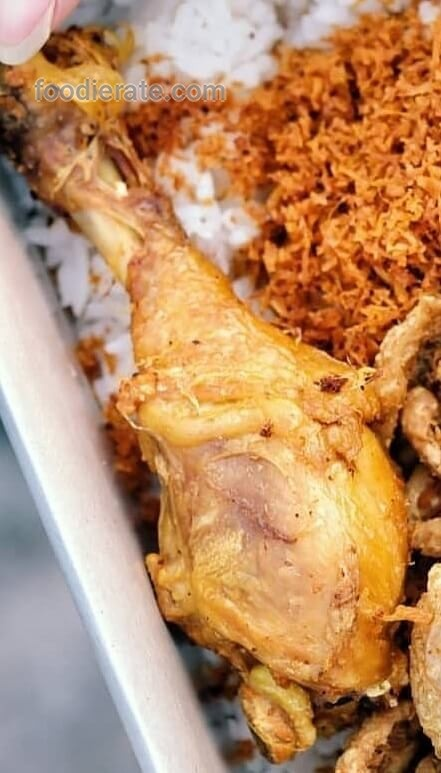ayam_goreng: (3, 46, 403, 706)
